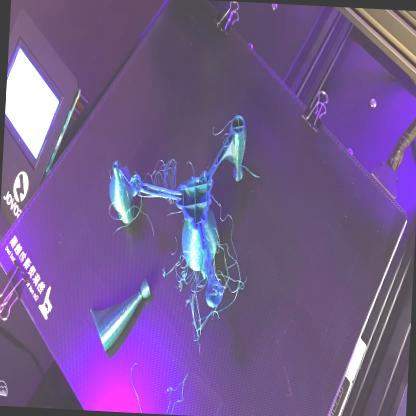fail: (162, 266, 207, 348), (161, 368, 191, 416), (217, 239, 248, 284), (149, 154, 182, 188)
